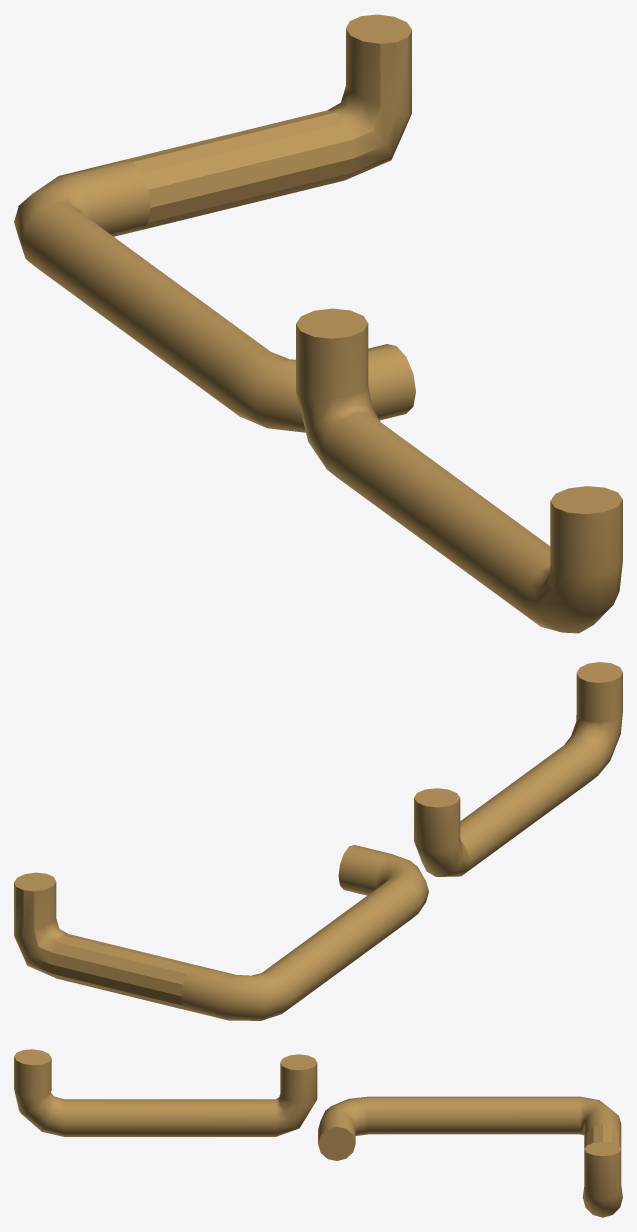
The model's file is pipes.fbx.
The picture shows the model from 3 angles, top to bottom: view 1: azimuth 30°, elevation 25°; view 2: azimuth 150°, elevation 25°; view 3: azimuth 270°, elevation 25°; orthographic projection. The views are drawn at different scales.
Visible parts, largest first — view 1: pCylinder2, pCylinder1; view 2: pCylinder2, pCylinder1; view 3: pCylinder2, pCylinder1.
Part boxes in pixels (<box>): pCylinder2: <box>14,14,415,432</box>; pCylinder1: <box>296,308,622,633</box>; pCylinder2: <box>14,845,428,1020</box>; pCylinder1: <box>414,662,622,876</box>; pCylinder2: <box>318,1096,622,1217</box>; pCylinder1: <box>14,1049,317,1136</box>.
Size of the model in its own units: 2.17 by 0.7695 by 5.39.
